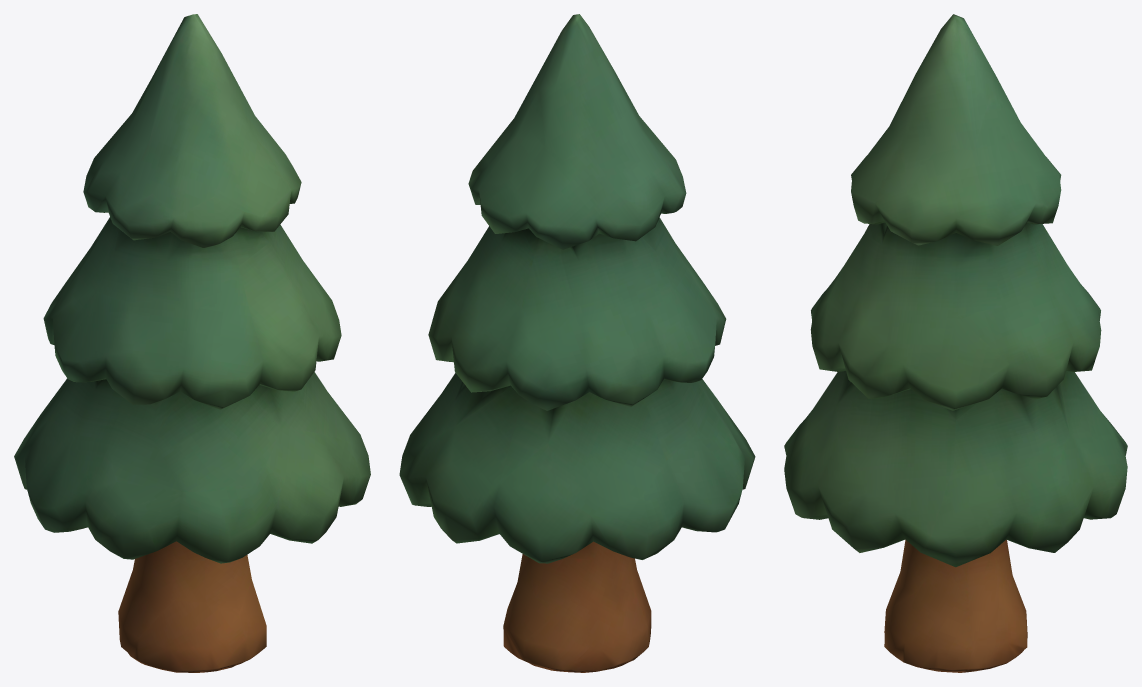
File: pine.glb
3 renders of one model, left to right at view 1: azimuth 30°, elevation 25°; view 2: azimuth 150°, elevation 25°; view 3: azimuth 270°, elevation 25°, orthographic.
Visible parts, largest first — view 1: tripo_node_9f3cc2b5-19ad-4f62-aaaa-e8894e14d839; view 2: tripo_node_9f3cc2b5-19ad-4f62-aaaa-e8894e14d839; view 3: tripo_node_9f3cc2b5-19ad-4f62-aaaa-e8894e14d839.
Boxes of the visible parts, bbox=[...] form: tripo_node_9f3cc2b5-19ad-4f62-aaaa-e8894e14d839: bbox=[14, 14, 370, 672]; tripo_node_9f3cc2b5-19ad-4f62-aaaa-e8894e14d839: bbox=[399, 14, 755, 672]; tripo_node_9f3cc2b5-19ad-4f62-aaaa-e8894e14d839: bbox=[784, 14, 1127, 672].
Size of the model in its own units: 0.5046 by 0.9811 by 0.4849.
Materials: 1 (1 with a texture image).
